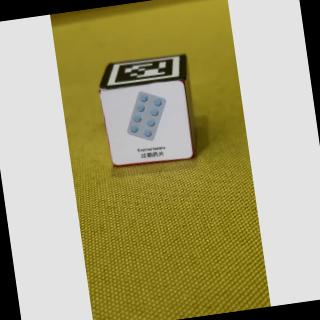Tablet: (99, 80, 195, 172)
